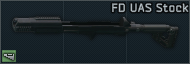SKS FAB Defense UAS stock: (0, 0, 190, 64)
